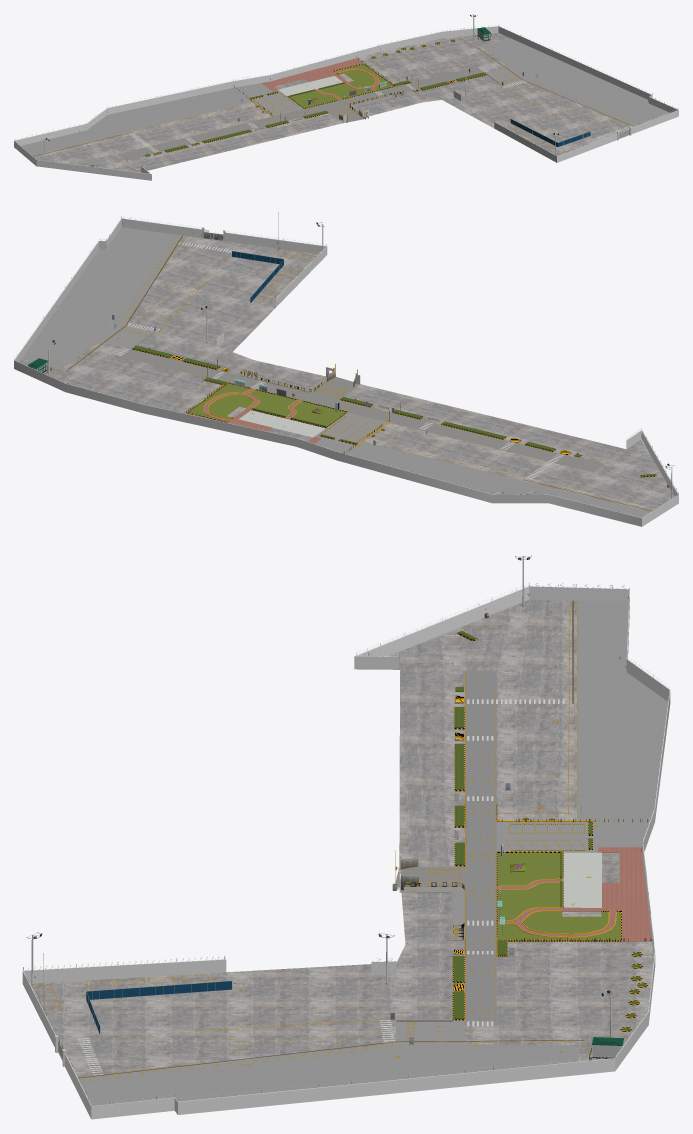
The model's file is CK-dimian01-JZ.FBX.
3 views of the same model, one above another, from view 1: azimuth 30°, elevation 25°; view 2: azimuth 150°, elevation 25°; view 3: azimuth 270°, elevation 25° (orthographic). The views are drawn at different scales.
Visible parts, largest first — view 1: CK-dimian01-JZ; view 2: CK-dimian01-JZ; view 3: CK-dimian01-JZ.
Part boxes in pixels (x1,y1,x2,y2): CK-dimian01-JZ: (14, 14, 678, 180); CK-dimian01-JZ: (14, 212, 678, 526); CK-dimian01-JZ: (22, 555, 670, 1119).
Bounding box in the file's own units: 256 × 14.42 × 135.
29 materials, 23 textured.
